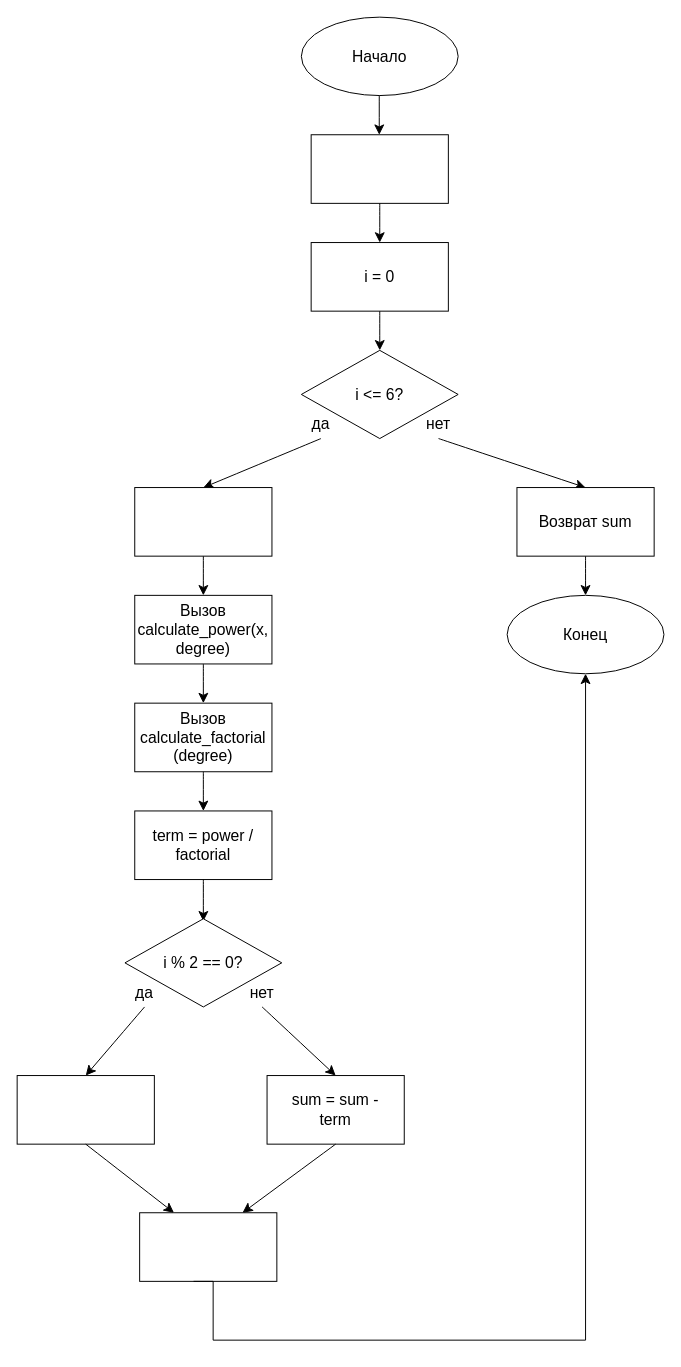
Image size: 681x1367. Some labels were removed from this diagram. The shapes that lost their labels are listed below. From the top down, each one's box as (x1, y1, x2, y2) in pixels, then its label:
(310, 134, 448, 203): sum = 0
(134, 487, 272, 556): degree = 2 * i + 1
(16, 1075, 154, 1144): sum = sum + term
(139, 1212, 277, 1281): i = i + 1
